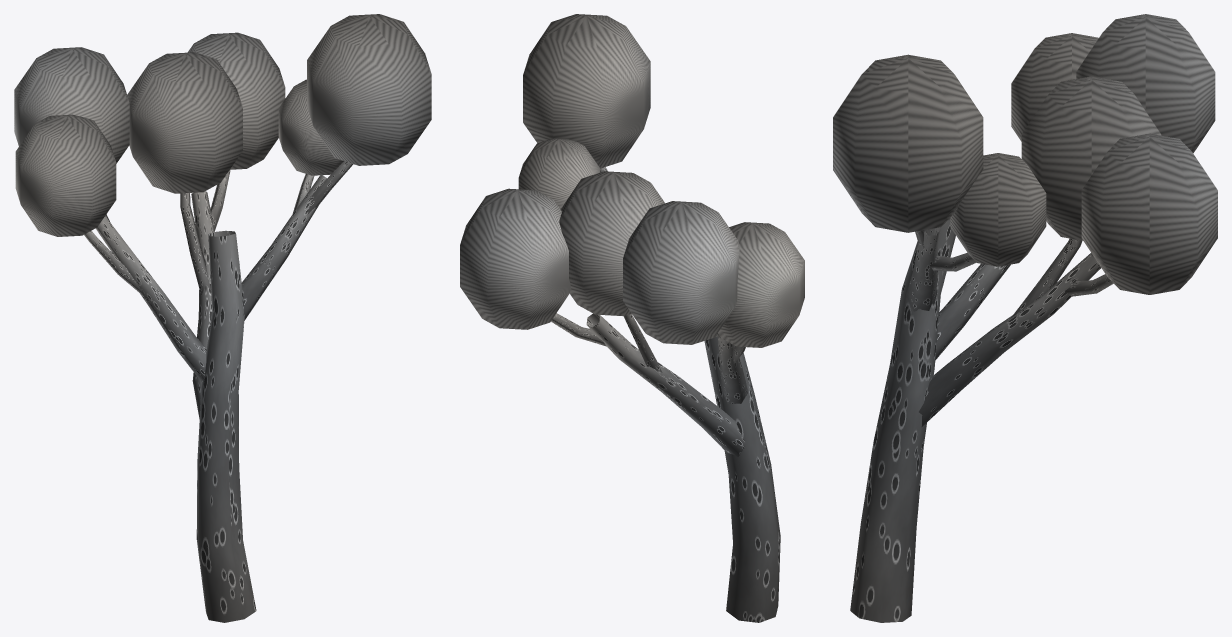
File: coral_tree_l0.gltf
3 renders of one model, left to right at view 1: azimuth 30°, elevation 25°; view 2: azimuth 150°, elevation 25°; view 3: azimuth 270°, elevation 25°, orthographic. The views are drawn at different scales.
Visible parts, largest first — view 1: coral_tree_l0; view 2: coral_tree_l0; view 3: coral_tree_l0.
Part boxes in pixels (x1,y1,x2,y2): coral_tree_l0: (14,14,431,622); coral_tree_l0: (460,14,804,622); coral_tree_l0: (833,14,1217,622).
Bounding box in the file's own units: 2.04 × 3.23 × 1.75.
1 material, 1 textured.
